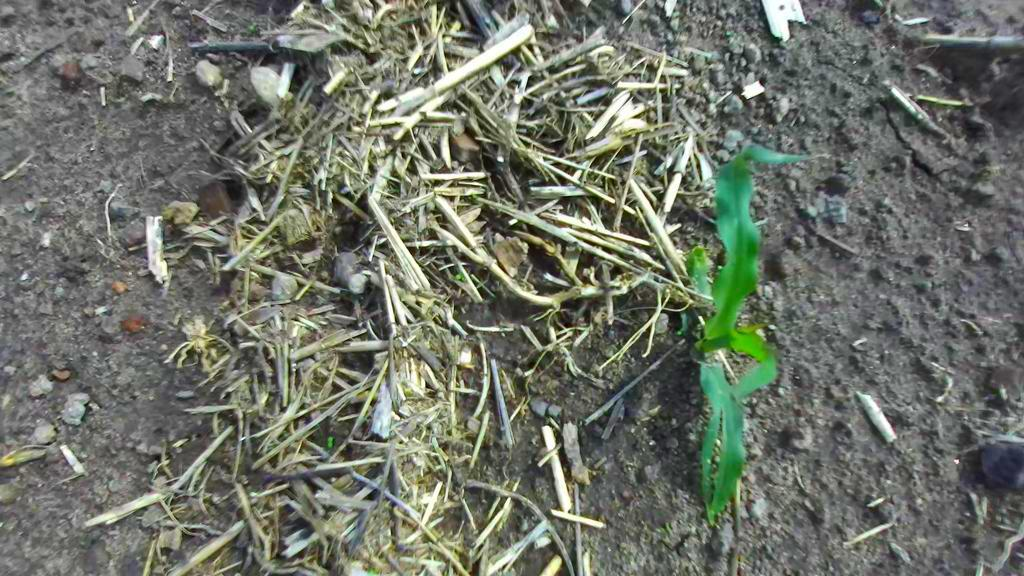BroWeed: (247, 20, 257, 33), (453, 272, 465, 280), (327, 436, 333, 447), (726, 30, 733, 37)
Maize: (631, 127, 830, 533)
